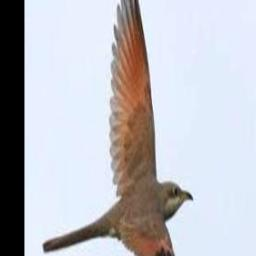Cuckoo: (43, 0, 194, 256)
